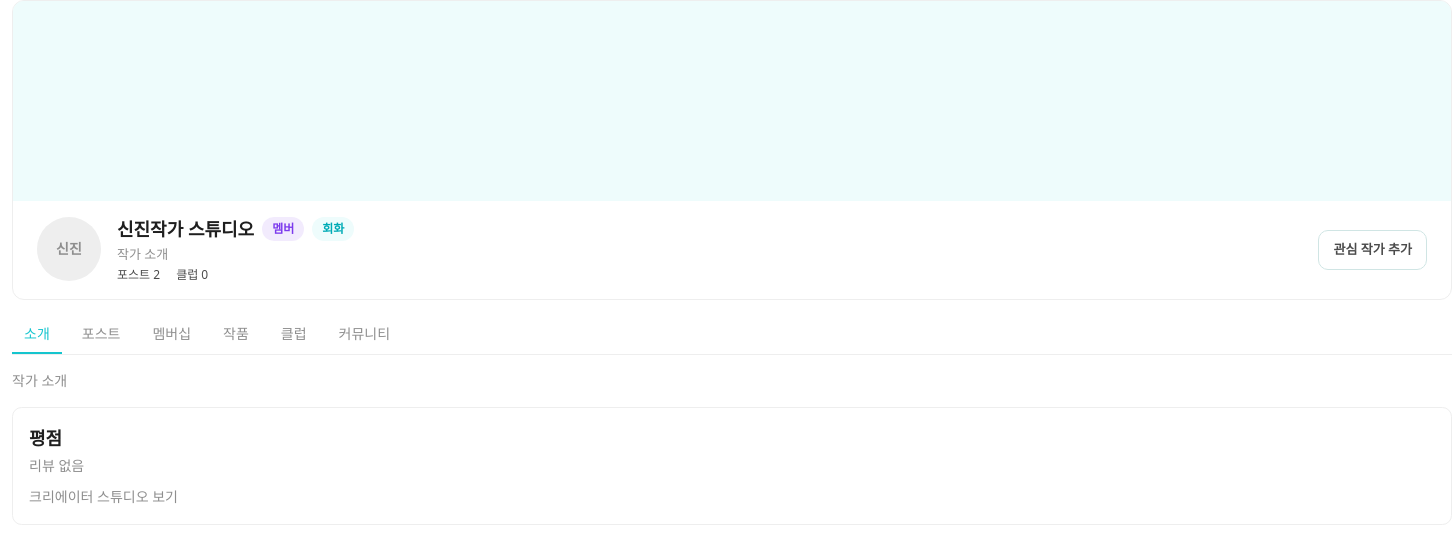
Test case: /creators/[creatorId] (AC-002, AC-003, AC-007) › 이미 멤버인 사용자에게 '멤버십 가입 완료' 비활성 버튼 표시 (AC-003, FR-006)
Click the tab "멤버십": (172, 335) [140, 316, 203, 354]
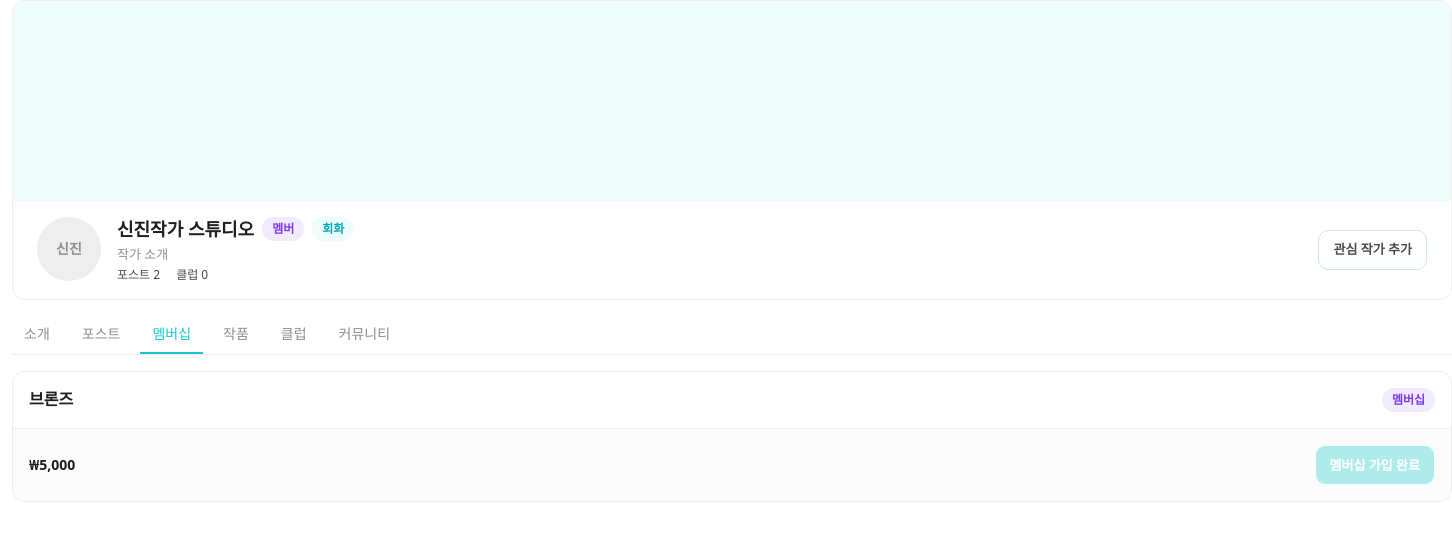
Expected: the button "멤버십 가입 완료" is disabled, [1314, 445, 1435, 485]
